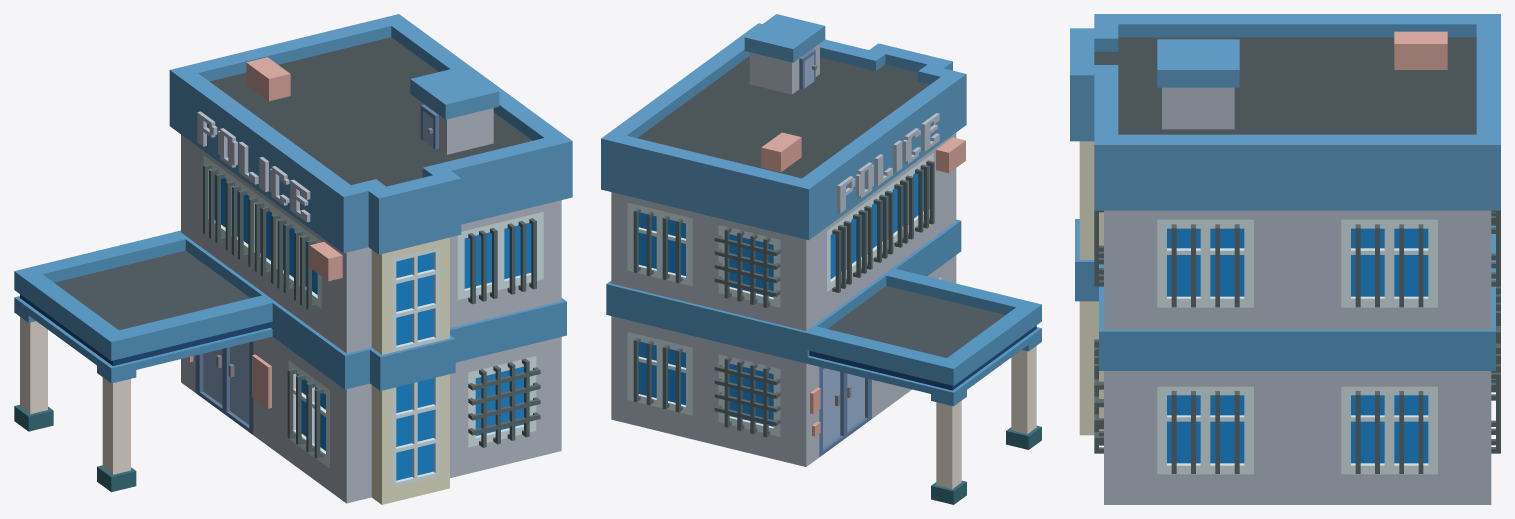
The model's file is Home02_B1_1_01.FBX.
The picture shows the model from 3 angles, left to right: view 1: azimuth 30°, elevation 25°; view 2: azimuth 150°, elevation 25°; view 3: azimuth 270°, elevation 25°; orthographic projection. The views are drawn at different scales.
Visible parts, largest first — view 1: Homes02_B1_Live_1_01; view 2: Homes02_B1_Live_1_01; view 3: Homes02_B1_Live_1_01.
Boxes of the visible parts, x1,y1,x2,y2 form: Homes02_B1_Live_1_01: (14,14,572,504); Homes02_B1_Live_1_01: (601,14,1041,504); Homes02_B1_Live_1_01: (1070,14,1500,504).
Size of the model in its own units: 8.23 by 7.16 by 6.78.
